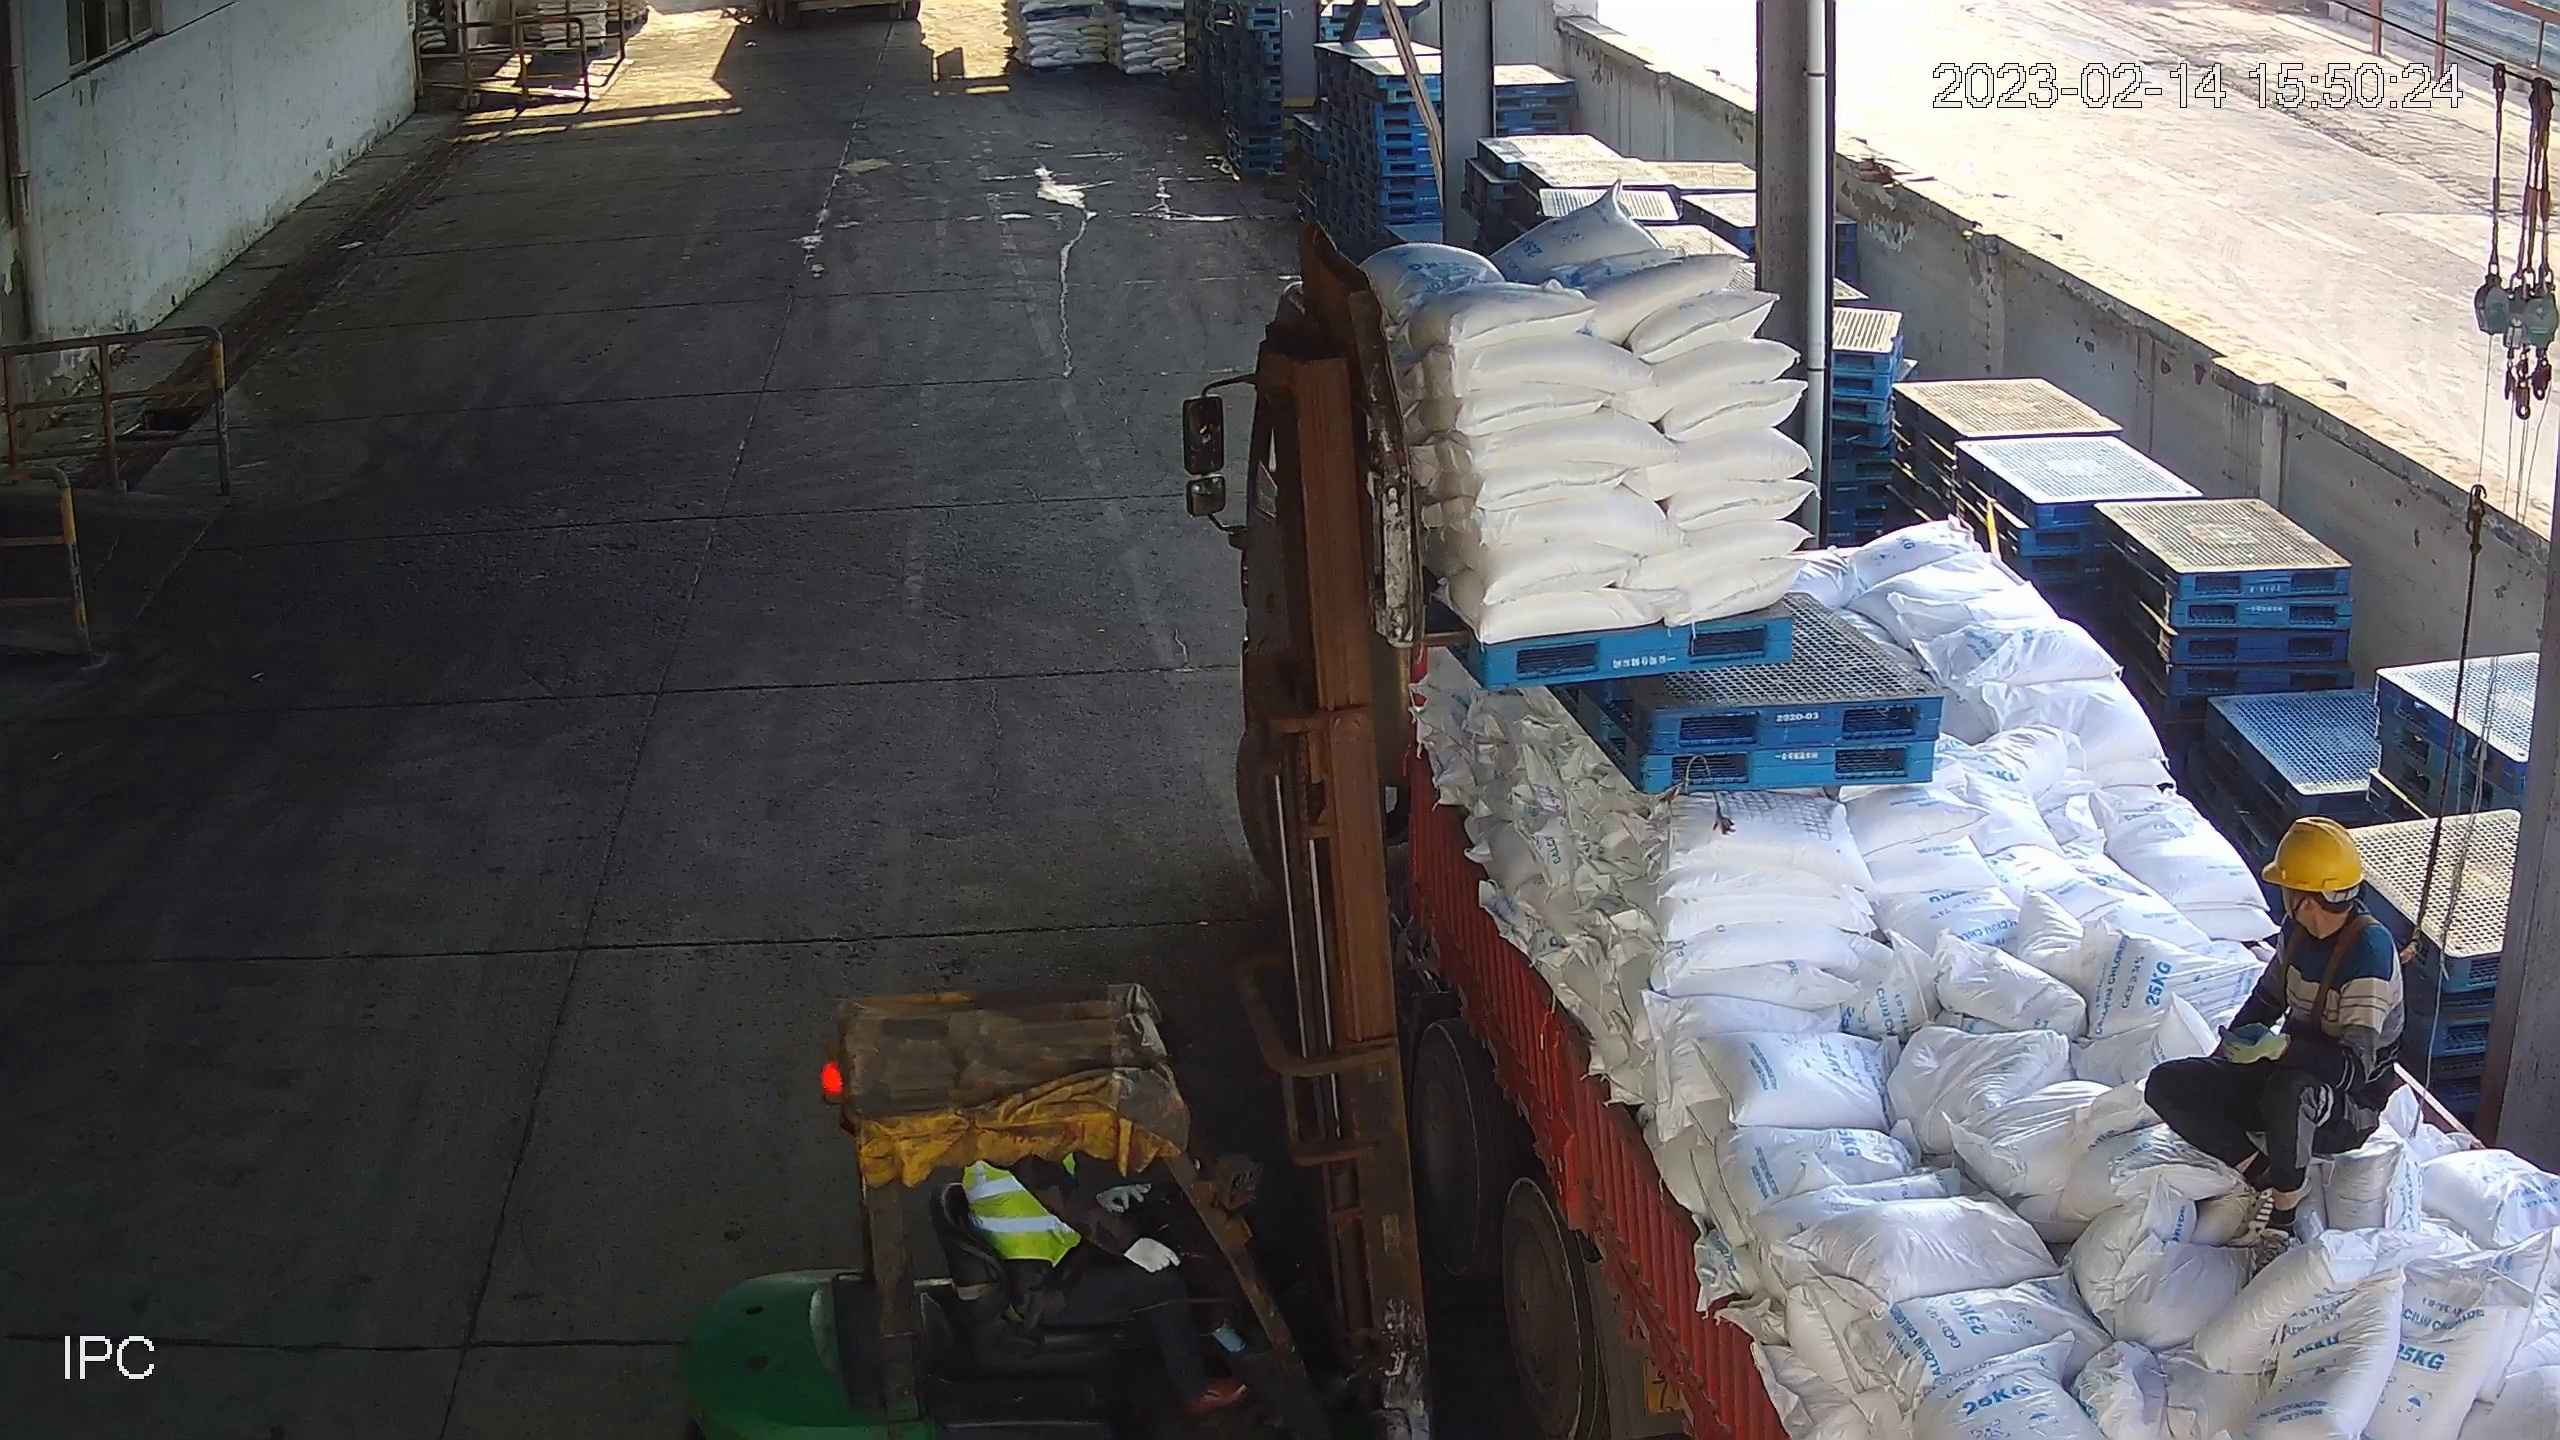belt: (2274, 913, 2428, 1035)
head: (2254, 813, 2397, 967)
helmet: (2259, 814, 2367, 895)
people: (2139, 814, 2409, 1284)
truck: (1231, 252, 2560, 1440)
